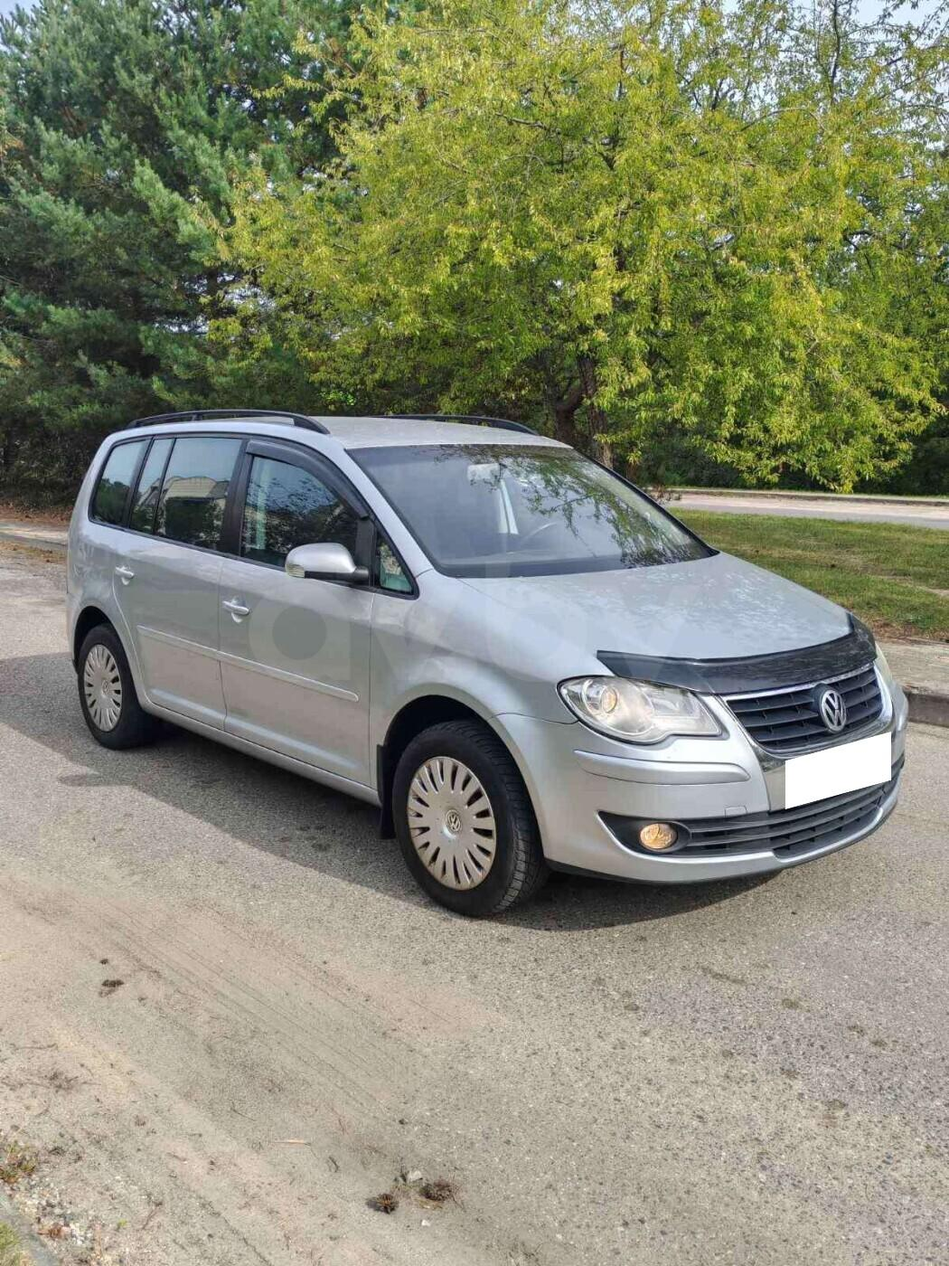Touran_2006-2010: (61, 414, 911, 921)
